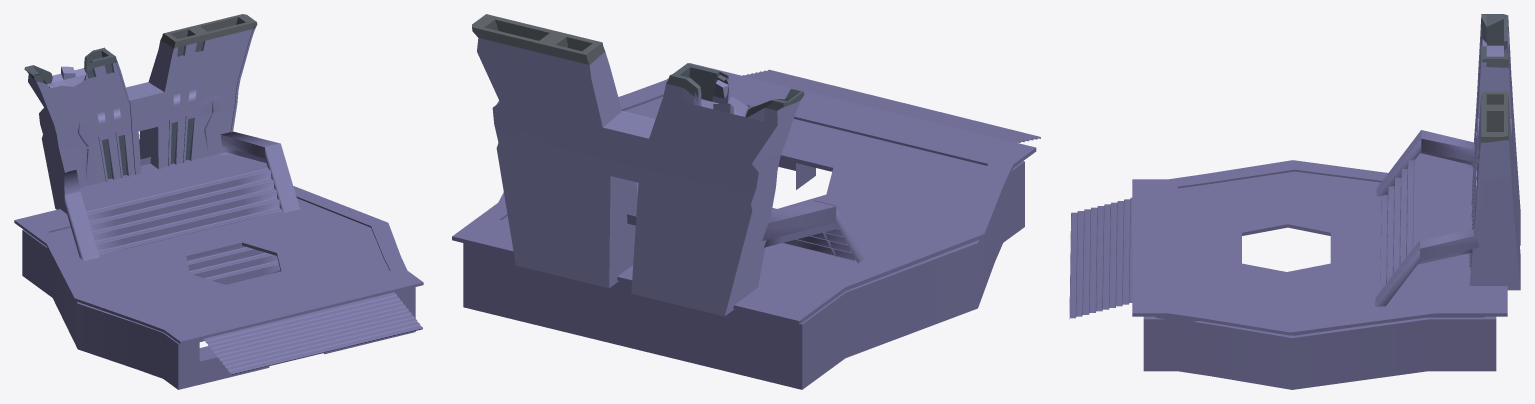
File: Higherplatform.fbx
3 views of the same model, side by side, from view 1: azimuth 30°, elevation 25°; view 2: azimuth 150°, elevation 25°; view 3: azimuth 270°, elevation 25° (orthographic). The views are drawn at different scales.
Parts seen in each view (by area): view 1: Ground, Gate; view 2: Ground, Gate; view 3: Ground, Gate.
Boxes of the visible parts, box(x1,y1,x2,y2) form: Ground: box(14, 131, 423, 389); Gate: box(24, 14, 257, 213); Ground: box(452, 63, 1040, 389); Gate: box(472, 14, 804, 316); Ground: box(1069, 130, 1507, 389); Gate: box(1469, 14, 1520, 290).
Bounding box in the file's own units: 1357 × 842 × 1500.
